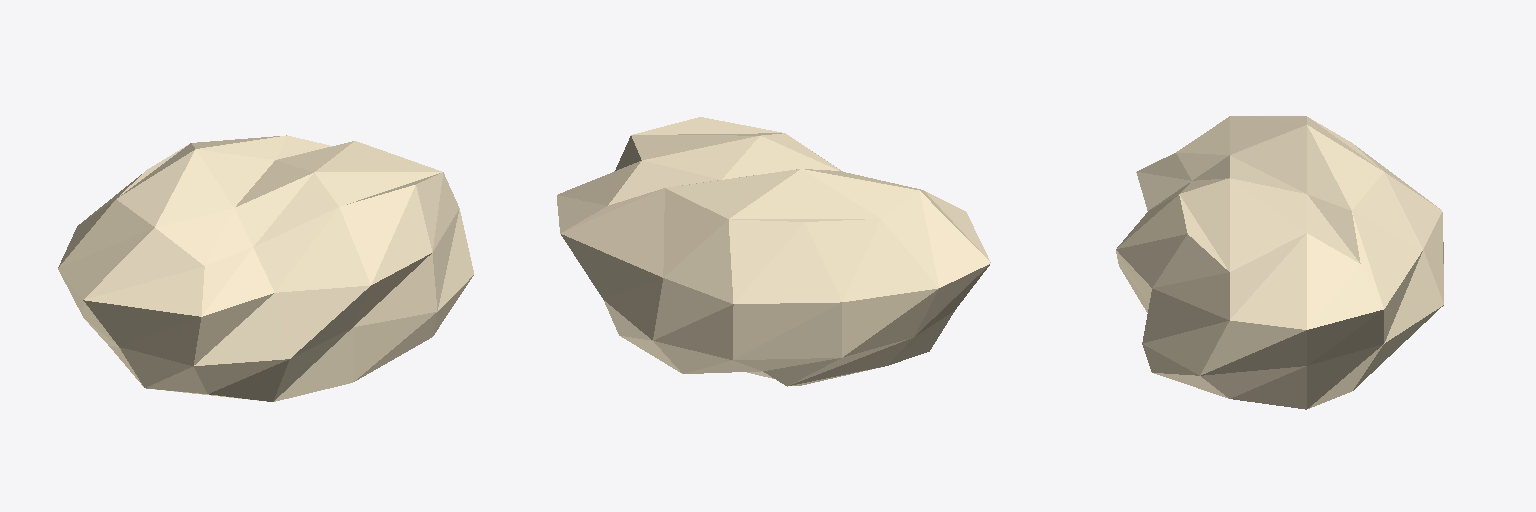
File: stone.obj
The picture shows the model from 3 angles: view 1: azimuth 30°, elevation 25°; view 2: azimuth 150°, elevation 25°; view 3: azimuth 270°, elevation 25°; orthographic projection.
Parts seen in each view (by area): view 1: stone1; view 2: stone1; view 3: stone1.
Boxes of the visible parts, x1,y1,x2,y2 form: stone1: [58, 135, 473, 401]; stone1: [557, 117, 990, 386]; stone1: [1116, 116, 1443, 409].
Size of the model in its own units: 1.66 by 0.8668 by 1.19.